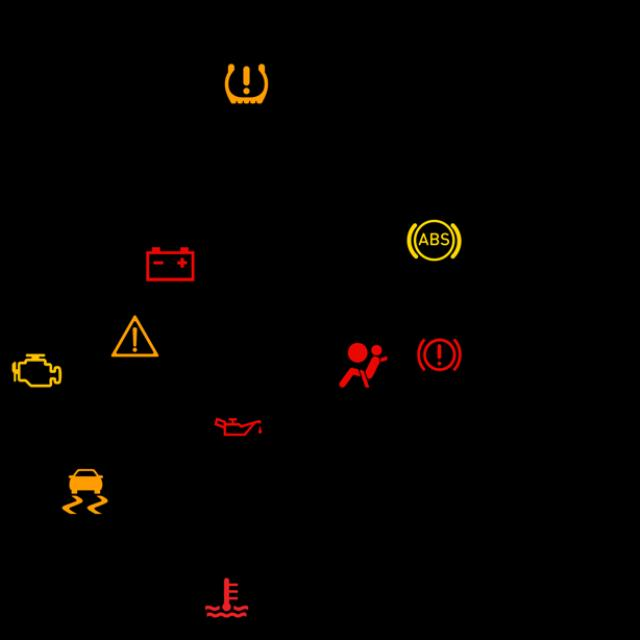Anti Lock Braking System: (403, 210, 463, 270)
Braking System Issue: (408, 325, 468, 385)
Charging System Issue: (140, 234, 200, 294)
Check Engine: (6, 341, 66, 400)
Electronic Stability Problem -ESP-: (54, 462, 114, 522)
Engine Overheating Warning Light: (196, 568, 256, 628)
Low Engine Oil Warning Light: (207, 397, 267, 457)
Low Tire Pressure Warning Light: (216, 54, 276, 114)
Master warning light: (104, 306, 164, 366)
SRS-Airbag: (332, 336, 392, 396)
